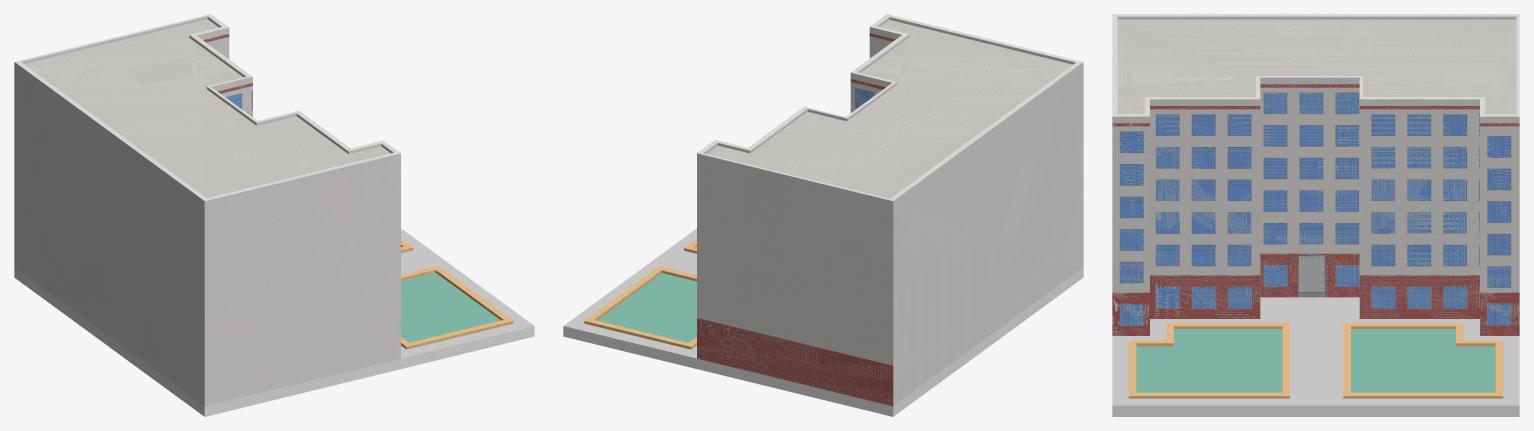
The model's file is buildings_7.dae.
3 renders of one model, left to right at view 1: azimuth 30°, elevation 25°; view 2: azimuth 150°, elevation 25°; view 3: azimuth 270°, elevation 25°, orthographic. The views are drawn at different scales.
Parts seen in each view (by area): view 1: group_0 (×8); view 2: group_0 (×9); view 3: group_0 (×19).
Boxes of the visible parts, <box> form: group_0 (×8): <box>14,14,534,416</box>; group_0 (×9): <box>563,14,1083,416</box>; group_0 (×19): <box>1112,14,1519,416</box>.
Size of the model in its own units: 134 by 134 by 83.7.
Materials: 11 (10 with a texture image).
